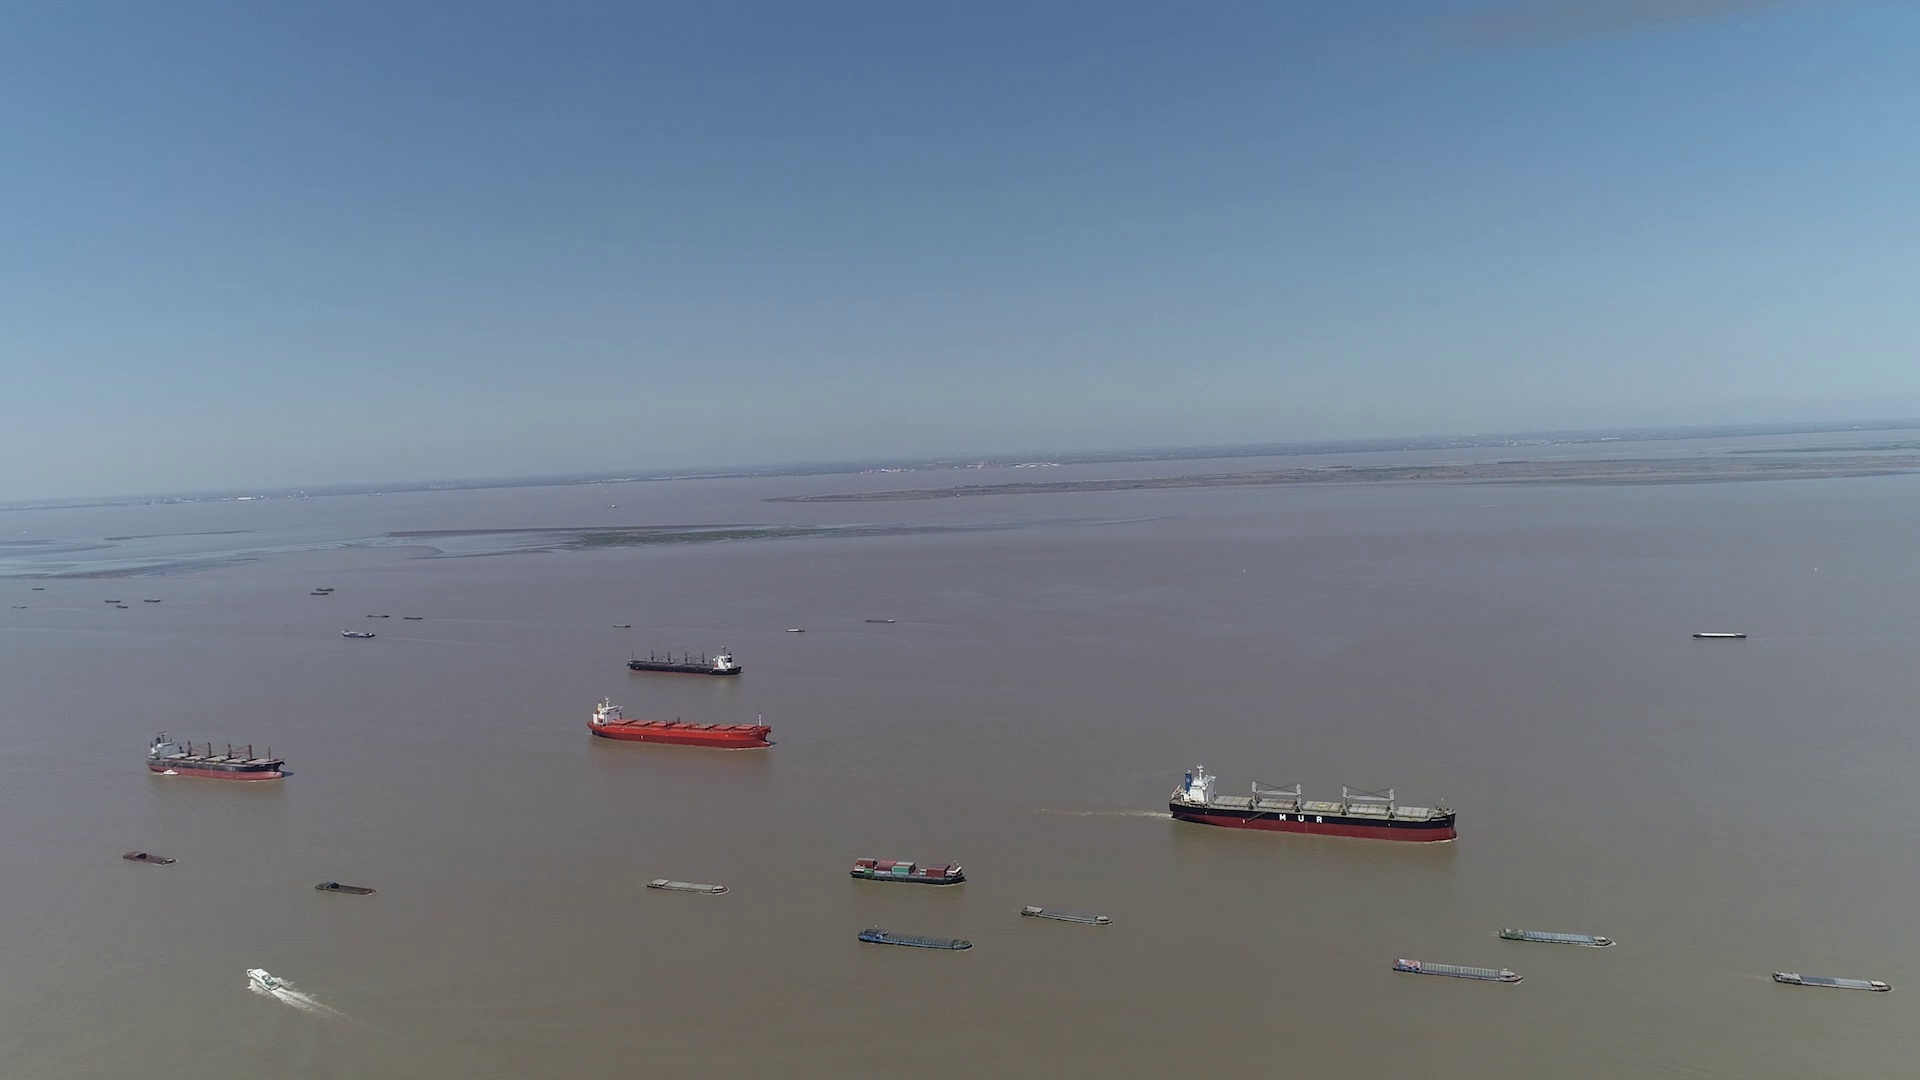ship: (1170, 766, 1458, 841), (589, 698, 773, 746), (149, 731, 286, 781), (1391, 957, 1524, 982), (625, 649, 742, 676), (849, 857, 964, 885), (855, 927, 975, 949), (1772, 969, 1890, 992), (1497, 927, 1613, 947), (1019, 903, 1112, 924), (646, 877, 727, 893), (315, 880, 377, 895), (121, 851, 171, 865), (247, 968, 278, 988), (1697, 632, 1746, 640), (342, 628, 375, 638)
